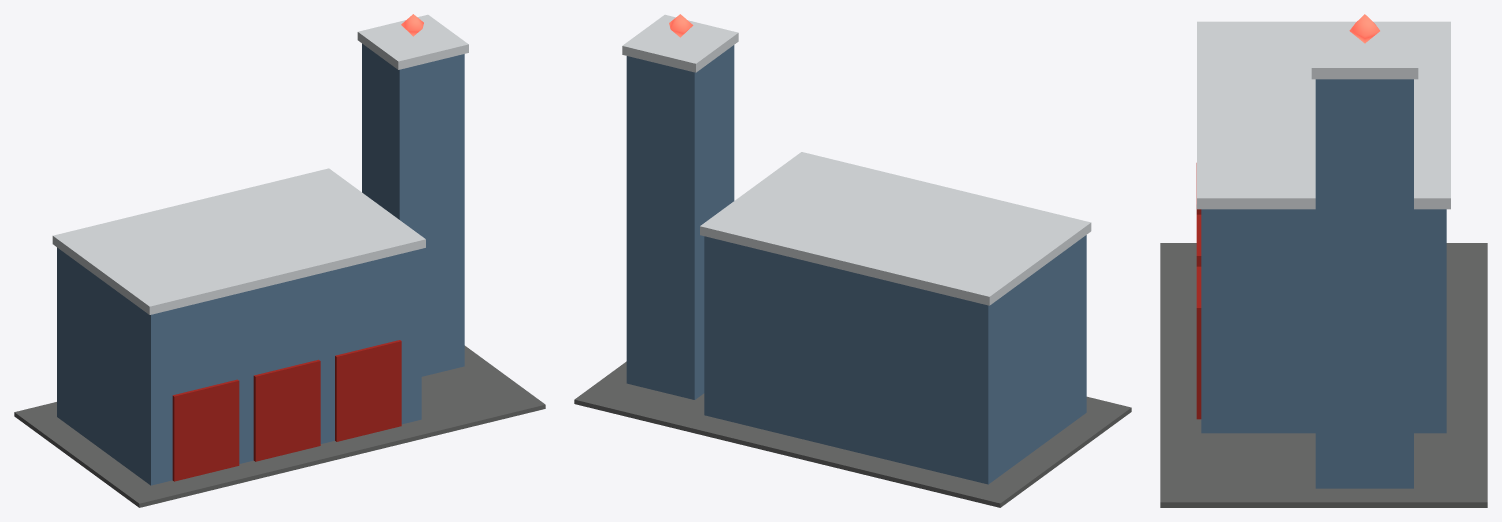
The model's file is bld_special_fire_station_a10_lod2.glb.
3 renders of one model, left to right at view 1: azimuth 30°, elevation 25°; view 2: azimuth 150°, elevation 25°; view 3: azimuth 270°, elevation 25°, orthographic. The views are drawn at different scales.
Visible parts, largest first — view 1: body; view 2: body; view 3: body.
Part boxes in pixels (box(x1,y1,x2,y2)): body: box(14, 14, 545, 507); body: box(574, 14, 1131, 507); body: box(1160, 14, 1487, 507).
Size of the model in its own units: 15 by 12.38 by 8.
